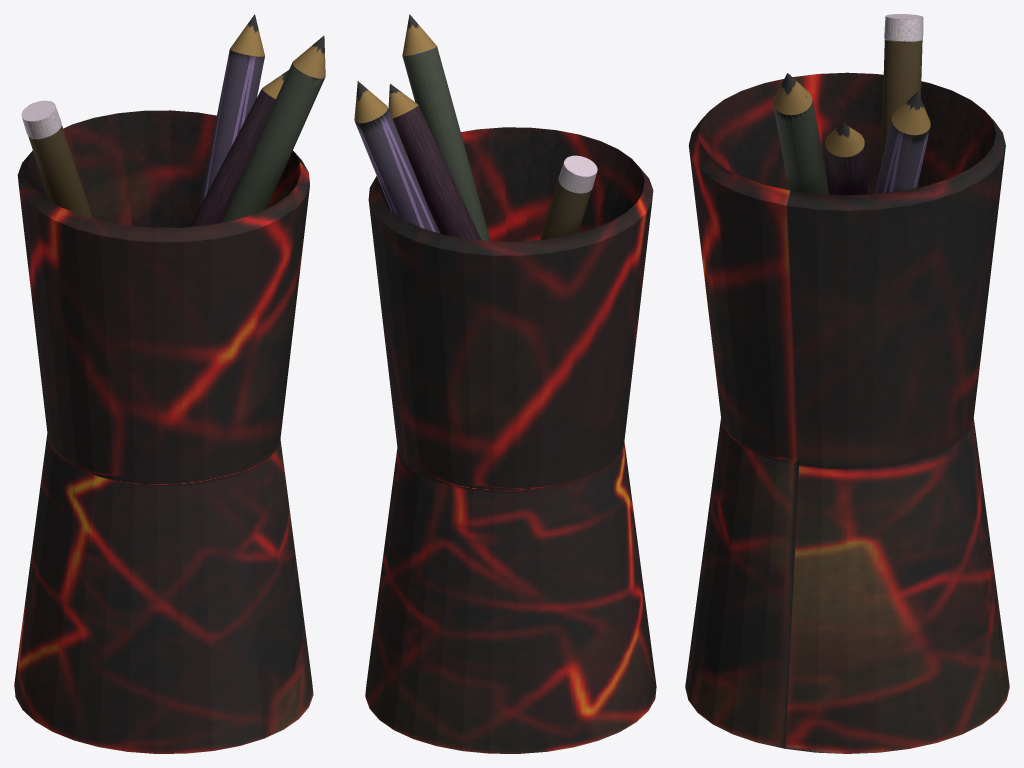
Rendered from pencilpot.obj.
The picture shows the model from 3 angles, left to right: view 1: azimuth 30°, elevation 25°; view 2: azimuth 150°, elevation 25°; view 3: azimuth 270°, elevation 25°; orthographic projection. The views are drawn at different scales.
Visible parts, largest first — view 1: penpot_Cube.001; view 2: penpot_Cube.001; view 3: penpot_Cube.001.
Part boxes in pixels (<box>): penpot_Cube.001: <box>14,14,325,753</box>; penpot_Cube.001: <box>354,14,656,753</box>; penpot_Cube.001: <box>685,14,1009,753</box>.
Size of the model in its own units: 2.72 by 6.35 by 2.74.
